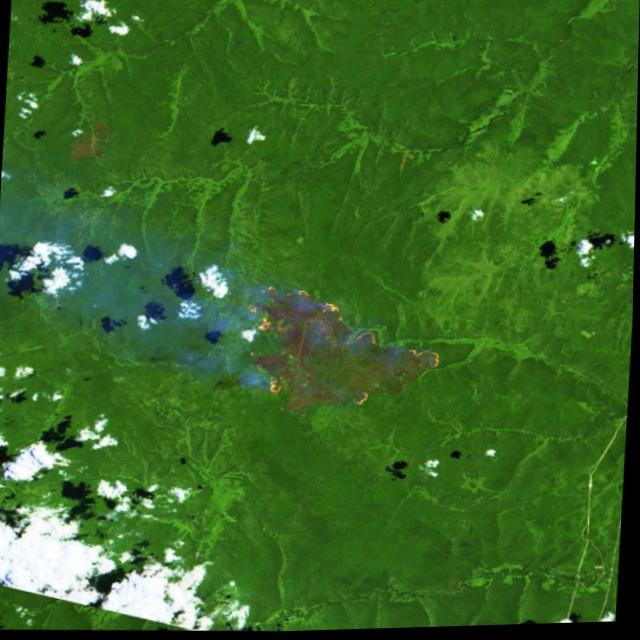fire: (236, 273, 452, 420)
